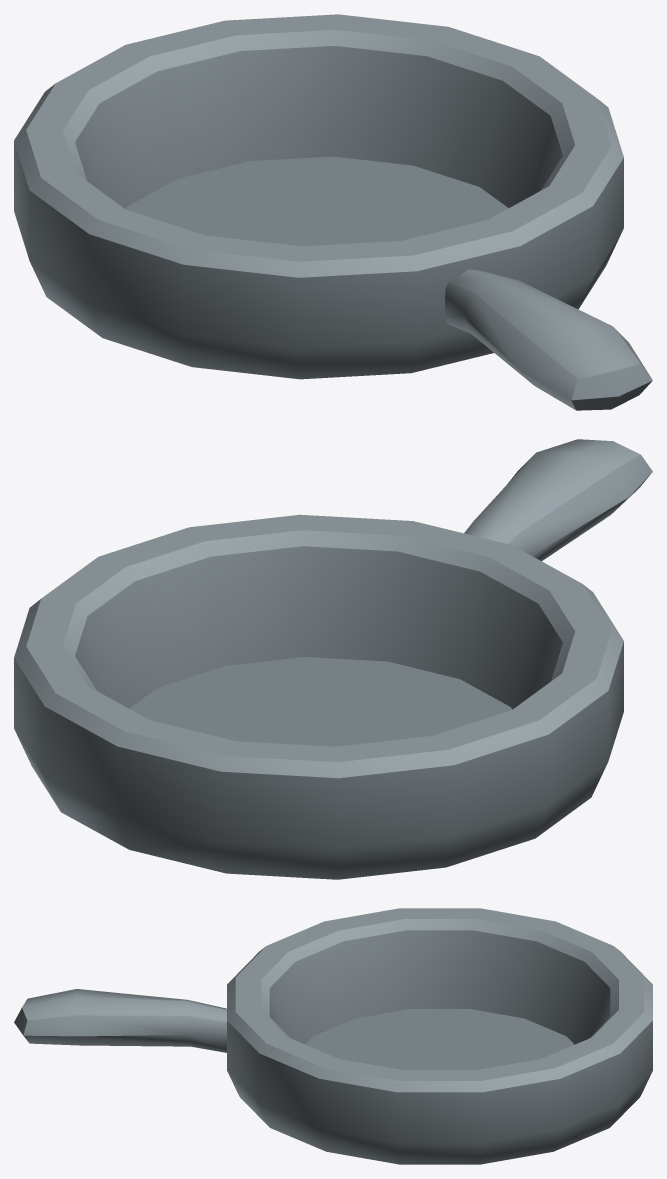
The model's file is pan_A.obj.
The picture shows the model from 3 angles, top to bottom: view 1: azimuth 30°, elevation 25°; view 2: azimuth 150°, elevation 25°; view 3: azimuth 270°, elevation 25°; orthographic projection. The views are drawn at different scales.
Parts seen in each view (by area): view 1: pan_A_Cylinder.196; view 2: pan_A_Cylinder.196; view 3: pan_A_Cylinder.196.
Boxes of the visible parts, box(x1,y1,x2,y2) form: pan_A_Cylinder.196: box(14, 14, 652, 410); pan_A_Cylinder.196: box(14, 439, 652, 879); pan_A_Cylinder.196: box(14, 908, 652, 1164).
Size of the model in its own units: 1 by 0.25 by 1.5.
1 material, 1 textured.
